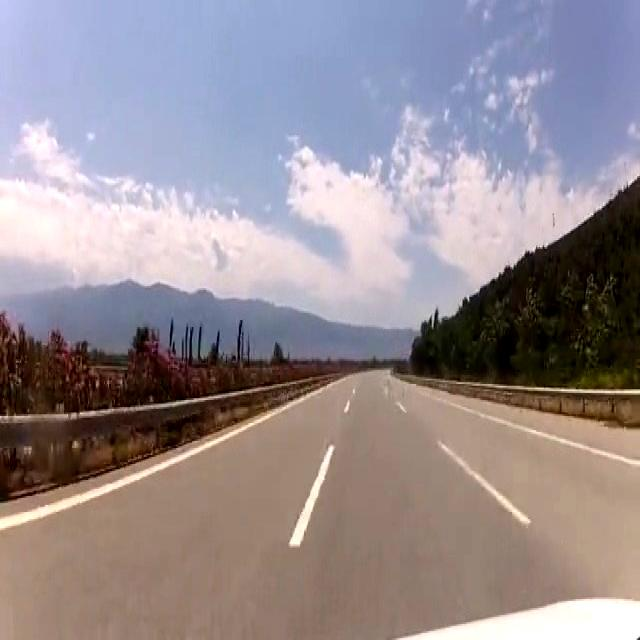lane: (0, 388, 326, 530), (438, 441, 529, 526), (291, 446, 332, 546)
road: (3, 370, 639, 639)
